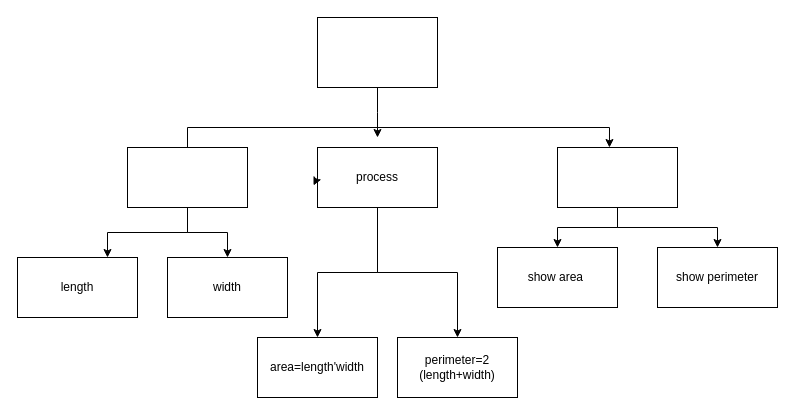
This 795x415 diagram has some shape labels left out. Each missing label, with the box of its shape:
area and perimeter of rectangle: (316, 16, 438, 88)
input: (126, 146, 248, 208)
output: (556, 146, 678, 208)
